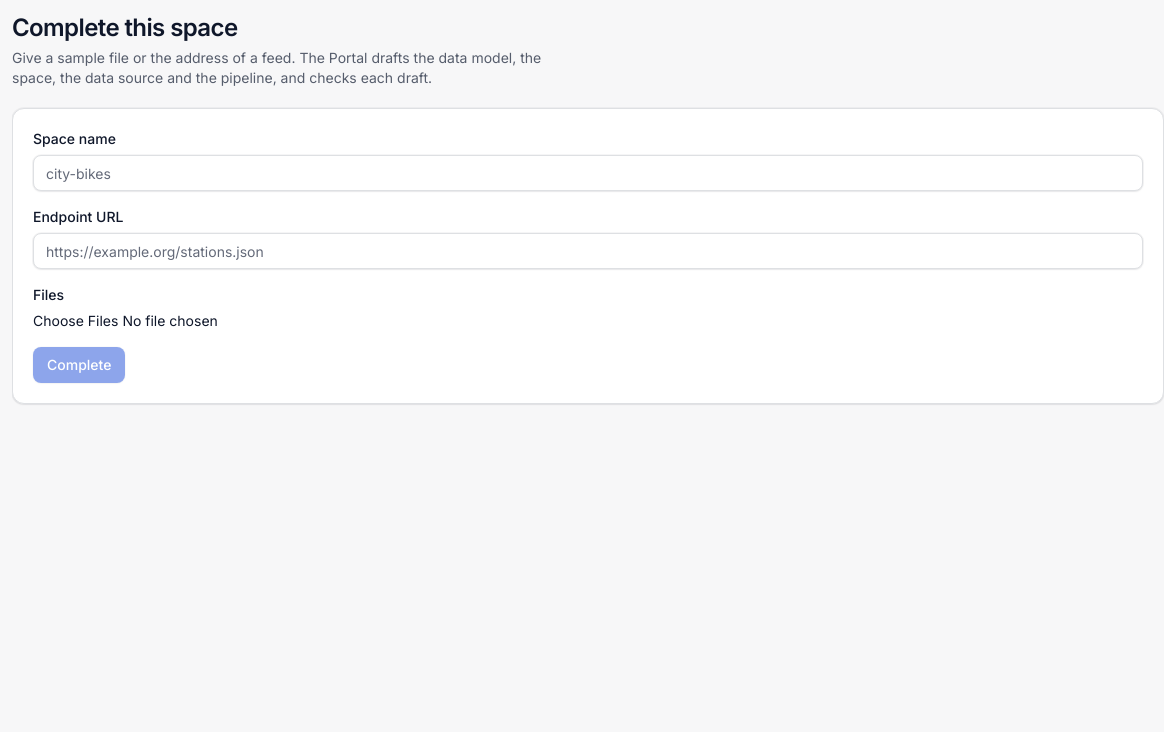
it: SpaceComplete page › renders inputs and runs completion when Complete is clicked
Type "https://example.com/station_status.json" into the field labelled "Endpoint URL". click: (588, 251)
box: [33, 233, 1143, 269]
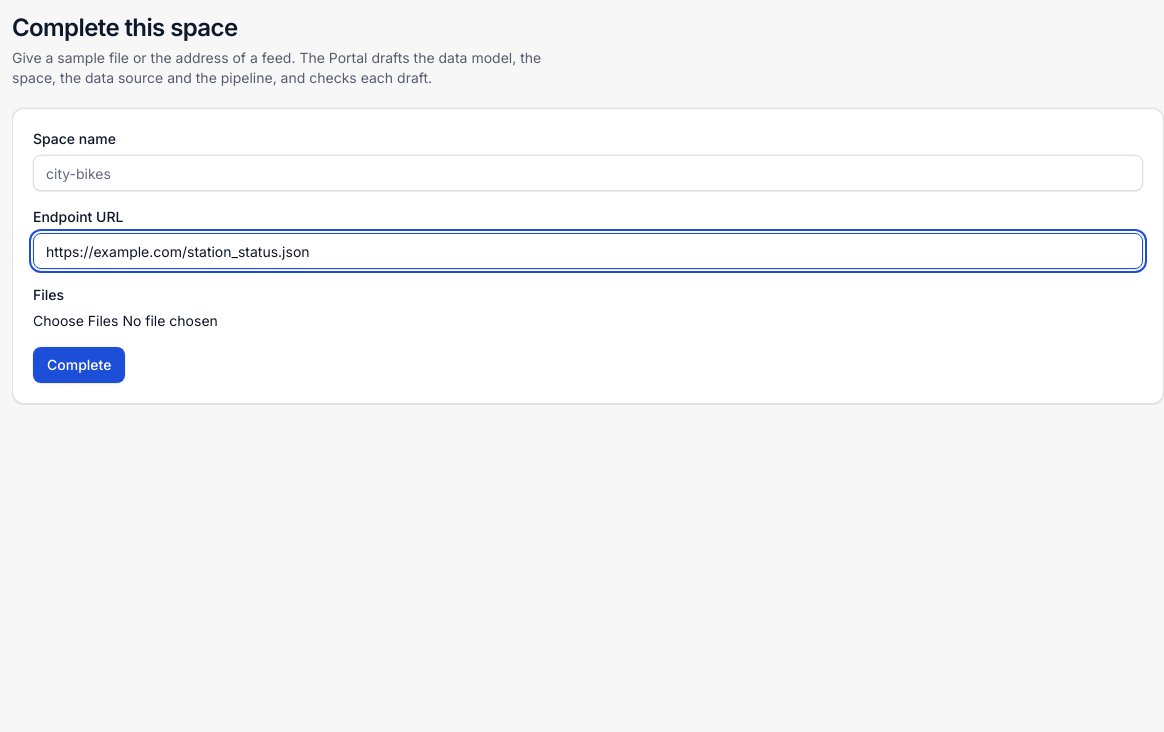
Now the button "Complete" is enabled
Click the button "Complete". click: (79, 365)
box: [33, 347, 125, 383]
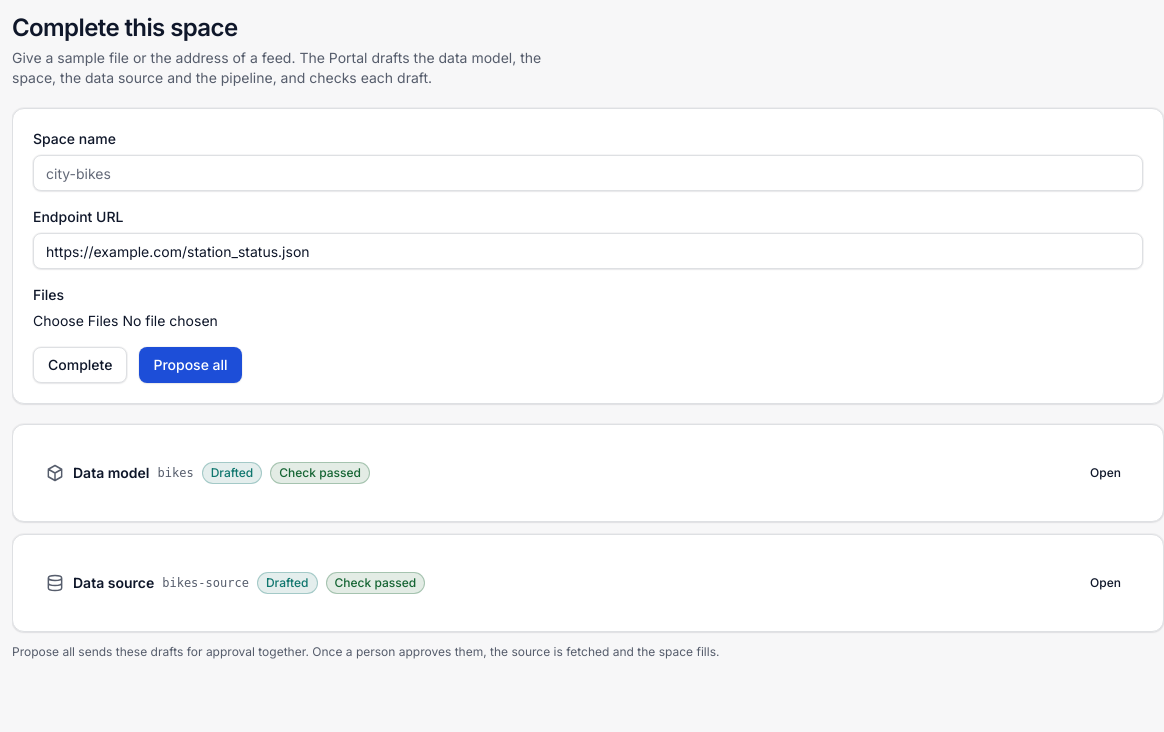
Now the element with test id "complete-draft-DataModel" is shown, box [12, 424, 1163, 522]
Now the element with test id "complete-draft-DataSource" is shown, box [12, 534, 1163, 632]
Now the button "Propose all" is shown, box [139, 347, 242, 383]
